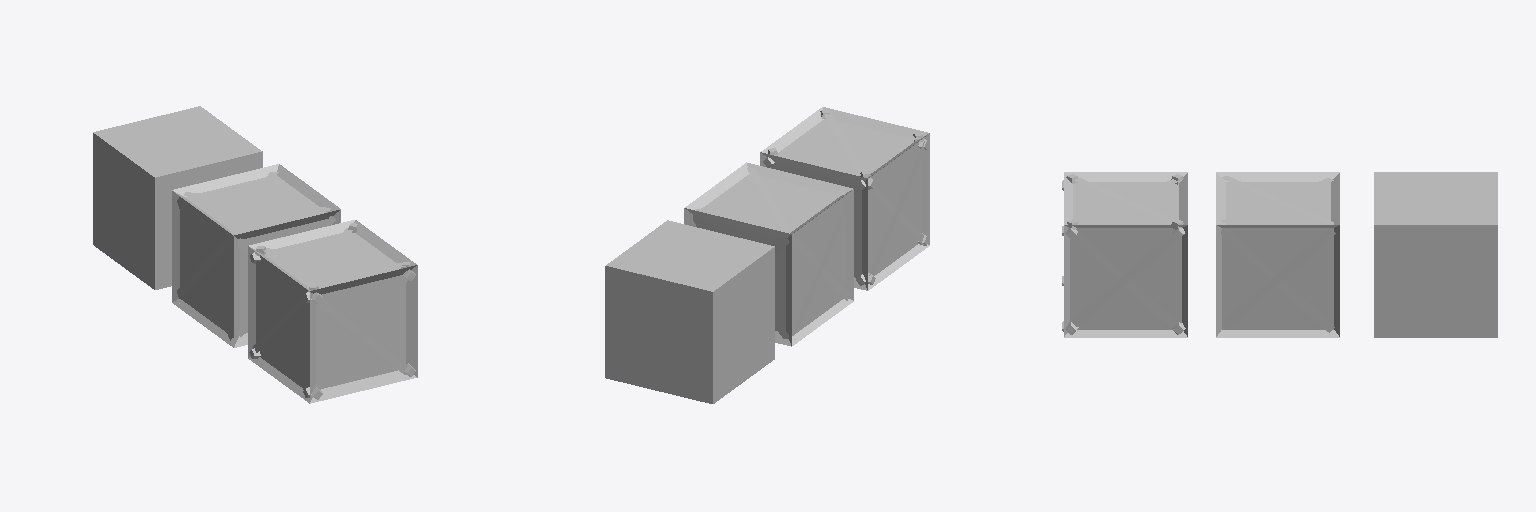
The model's file is Sci-Fi Crate_New.obj.
3 views of the same model, side by side, from view 1: azimuth 30°, elevation 25°; view 2: azimuth 150°, elevation 25°; view 3: azimuth 270°, elevation 25° (orthographic).
Visible parts, largest first — view 1: Sci-Fi_Crate_Mesh_LOD_3_Cube.002, Sci-Fi_Crate_Mesh_LOD_1_Cube, Sci-Fi_Crate_Mesh_LOD_2_Cube.001; view 2: Sci-Fi_Crate_Mesh_LOD_1_Cube, Sci-Fi_Crate_Mesh_LOD_2_Cube.001, Sci-Fi_Crate_Mesh_LOD_3_Cube.002; view 3: Sci-Fi_Crate_Mesh_LOD_3_Cube.002, Sci-Fi_Crate_Mesh_LOD_1_Cube, Sci-Fi_Crate_Mesh_LOD_2_Cube.001.
Part boxes in pixels (left/top/right/bottom): Sci-Fi_Crate_Mesh_LOD_3_Cube.002: left=248, top=220, right=417, bottom=403; Sci-Fi_Crate_Mesh_LOD_1_Cube: left=93, top=106, right=262, bottom=289; Sci-Fi_Crate_Mesh_LOD_2_Cube.001: left=172, top=164, right=340, bottom=347; Sci-Fi_Crate_Mesh_LOD_1_Cube: left=605, top=220, right=774, bottom=403; Sci-Fi_Crate_Mesh_LOD_2_Cube.001: left=684, top=162, right=853, bottom=346; Sci-Fi_Crate_Mesh_LOD_3_Cube.002: left=760, top=107, right=929, bottom=290; Sci-Fi_Crate_Mesh_LOD_3_Cube.002: left=1062, top=172, right=1187, bottom=337; Sci-Fi_Crate_Mesh_LOD_1_Cube: left=1374, top=172, right=1497, bottom=337; Sci-Fi_Crate_Mesh_LOD_2_Cube.001: left=1216, top=172, right=1339, bottom=337.
Bounding box in the file's own units: 2.03 × 2.03 × 7.02.